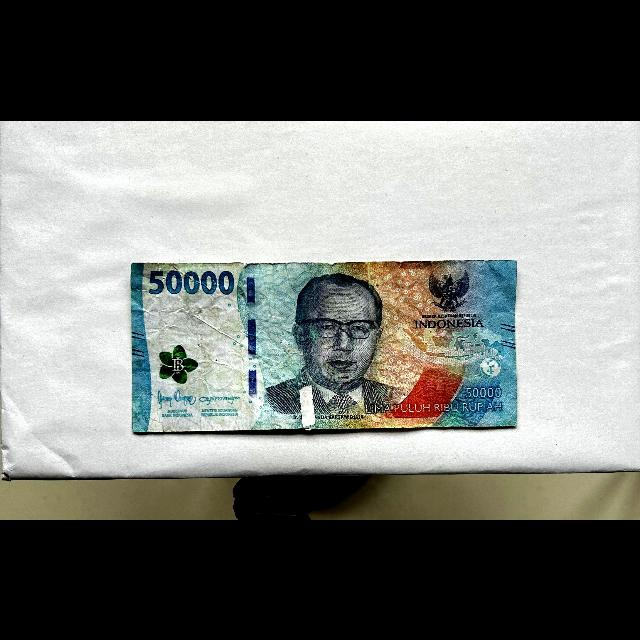Palsu-50k: (129, 256, 519, 434)
Tinta-Palsu-50k: (159, 343, 199, 384)
